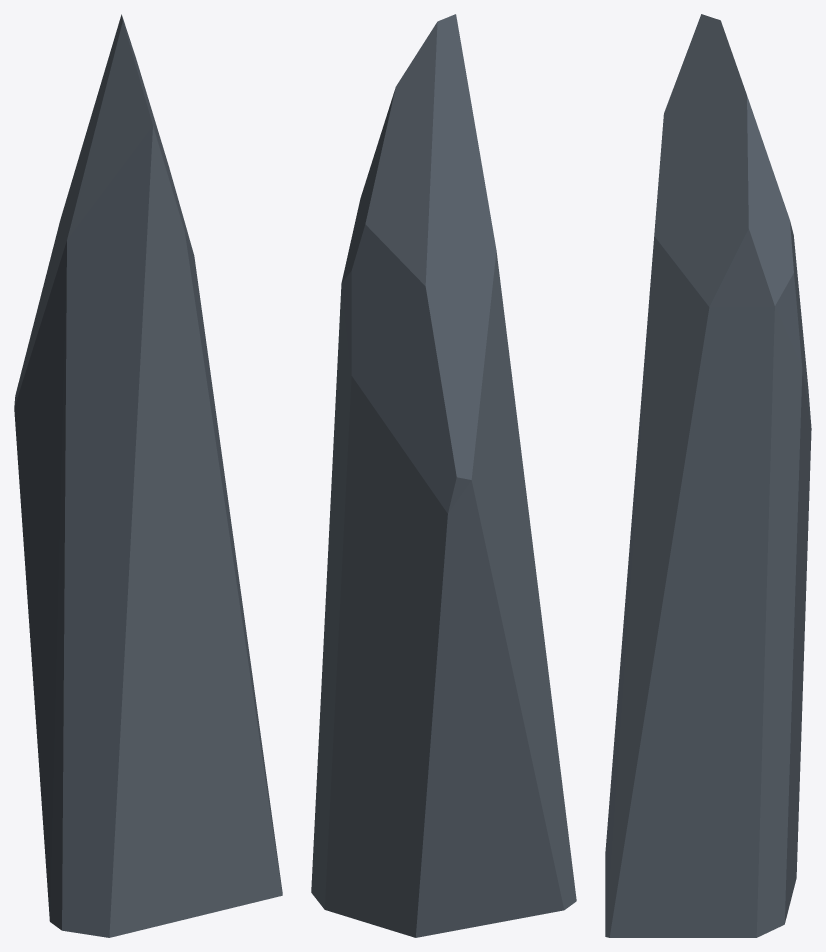
The model's file is Rock_Sharp_m_06 2.fbx.
3 views of the same model, side by side, from view 1: azimuth 30°, elevation 25°; view 2: azimuth 150°, elevation 25°; view 3: azimuth 270°, elevation 25° (orthographic). The views are drawn at different scales.
Parts seen in each view (by area): view 1: Rock_Sharp_m_06; view 2: Rock_Sharp_m_06; view 3: Rock_Sharp_m_06.
Part boxes in pixels (x1,y1,x2,y2): Rock_Sharp_m_06: (14, 14, 282, 937); Rock_Sharp_m_06: (311, 14, 576, 937); Rock_Sharp_m_06: (605, 14, 811, 937).
Bounding box in the file's own units: 50.01 × 204 × 43.8.
